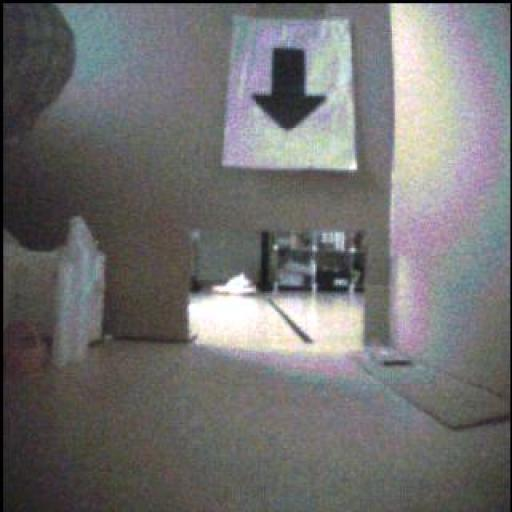arrow: (254, 49, 327, 131)
